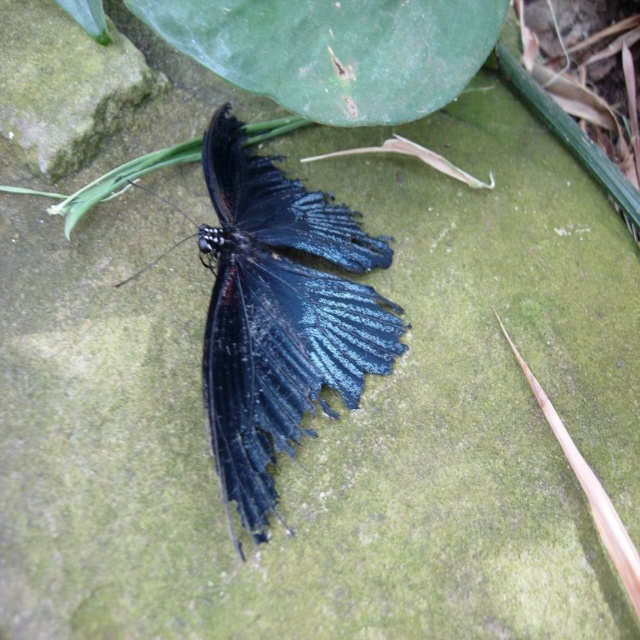Butterfly: (100, 98, 417, 537)
